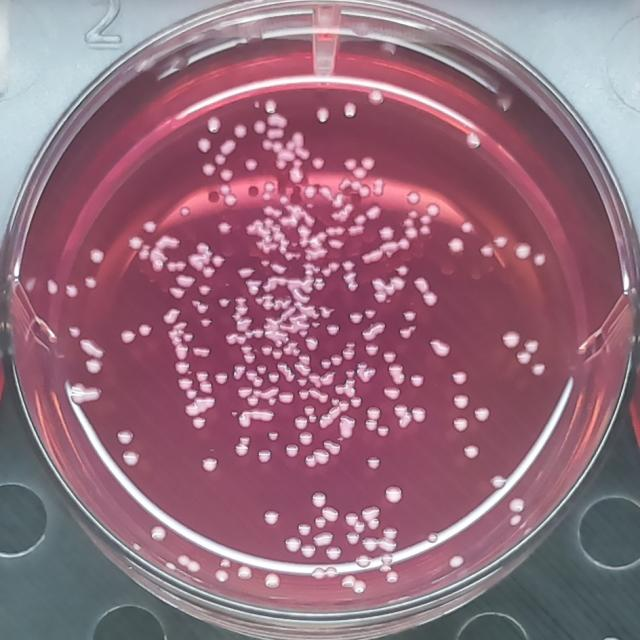StaphyloNegative: (68, 378, 104, 408), (413, 275, 441, 309), (183, 393, 217, 418), (238, 407, 276, 428), (342, 257, 361, 294), (514, 337, 541, 363), (78, 338, 107, 360), (174, 553, 202, 574), (428, 336, 452, 360), (380, 238, 412, 256), (304, 448, 330, 470), (382, 483, 405, 506), (356, 360, 378, 384), (275, 360, 297, 384), (217, 183, 238, 208), (195, 368, 213, 397), (160, 304, 182, 327), (363, 404, 381, 432), (232, 434, 252, 458), (501, 328, 522, 350), (262, 507, 283, 529), (445, 235, 466, 256), (115, 426, 136, 447), (121, 448, 142, 469), (308, 489, 329, 510), (321, 437, 343, 457), (261, 570, 283, 590), (360, 246, 383, 265), (87, 246, 107, 267), (84, 357, 105, 377), (512, 241, 534, 260), (289, 158, 305, 184), (174, 272, 198, 289), (366, 88, 386, 108), (506, 496, 526, 516), (365, 201, 384, 222), (149, 524, 168, 545), (119, 326, 138, 347), (314, 104, 332, 126), (450, 368, 470, 387), (473, 404, 492, 424), (450, 414, 470, 433), (462, 442, 482, 461), (398, 322, 418, 341), (200, 454, 219, 474), (266, 112, 288, 129), (261, 138, 284, 154), (321, 504, 340, 523), (451, 392, 471, 410), (341, 100, 359, 120), (283, 536, 303, 554), (446, 552, 466, 570), (324, 544, 344, 562), (190, 298, 210, 316), (44, 276, 61, 297), (302, 402, 318, 424), (166, 285, 188, 301), (360, 504, 382, 520), (261, 178, 275, 203), (488, 472, 507, 490), (318, 303, 337, 321), (464, 132, 482, 151), (140, 218, 159, 236), (235, 563, 254, 581), (299, 542, 318, 560), (320, 261, 340, 278), (376, 225, 396, 242), (191, 345, 213, 360), (492, 232, 510, 250), (297, 430, 315, 448), (256, 448, 274, 466), (63, 283, 81, 301), (392, 401, 410, 419), (213, 566, 231, 584), (361, 535, 379, 553), (412, 405, 429, 424), (136, 322, 155, 339), (381, 385, 402, 400), (458, 218, 475, 236), (405, 188, 422, 206), (530, 361, 548, 378), (310, 155, 328, 172), (232, 122, 249, 140), (220, 138, 237, 156), (195, 136, 212, 154), (200, 160, 217, 178), (295, 521, 313, 538), (82, 274, 99, 292), (354, 552, 372, 569), (65, 323, 83, 340), (210, 253, 228, 270), (360, 154, 377, 172), (190, 415, 209, 431), (397, 411, 413, 430), (533, 249, 548, 269), (216, 220, 233, 237), (325, 321, 342, 338), (409, 372, 426, 389), (213, 369, 230, 386), (478, 241, 494, 259), (365, 455, 383, 471), (176, 376, 194, 392), (278, 390, 296, 406), (252, 118, 268, 136), (291, 130, 307, 148), (206, 116, 222, 134), (353, 578, 369, 596), (343, 530, 361, 546), (236, 264, 255, 279), (305, 333, 320, 352), (284, 443, 301, 459), (340, 573, 357, 589), (382, 525, 399, 541), (401, 308, 419, 323), (242, 157, 260, 172), (296, 223, 314, 238), (173, 360, 191, 375), (351, 165, 369, 180), (173, 344, 191, 359), (327, 237, 346, 251), (347, 224, 366, 238), (266, 127, 286, 140), (373, 177, 386, 197), (128, 235, 144, 251), (364, 342, 380, 358), (293, 415, 309, 431), (395, 262, 411, 278), (424, 530, 440, 546), (201, 264, 217, 280), (342, 156, 358, 172), (236, 384, 253, 399), (313, 514, 328, 531), (344, 511, 359, 528), (231, 363, 246, 380), (357, 183, 372, 200), (264, 98, 278, 116), (348, 310, 363, 326), (382, 349, 398, 364), (353, 211, 368, 227), (216, 555, 232, 570), (329, 353, 344, 368), (302, 185, 317, 200), (366, 517, 381, 532), (426, 202, 440, 218), (418, 224, 434, 238), (219, 167, 235, 181), (350, 394, 364, 410), (198, 316, 214, 330), (197, 284, 213, 298), (341, 348, 357, 362), (254, 362, 270, 376), (312, 566, 326, 582), (386, 570, 400, 586), (295, 147, 312, 160), (244, 284, 261, 297), (185, 386, 199, 401), (318, 357, 332, 372), (137, 248, 151, 263), (259, 343, 274, 357), (216, 296, 232, 309), (212, 153, 228, 166), (177, 204, 191, 218), (266, 429, 280, 443), (267, 371, 281, 385), (151, 260, 165, 274), (244, 368, 258, 382), (325, 566, 339, 580), (376, 423, 389, 438), (400, 216, 415, 229), (297, 388, 310, 402), (277, 193, 290, 207), (242, 352, 256, 365), (271, 348, 284, 362), (182, 330, 195, 344), (380, 552, 395, 564), (165, 260, 178, 273), (252, 375, 265, 388), (363, 308, 377, 320), (176, 259, 188, 273), (418, 213, 433, 224), (406, 208, 419, 220), (274, 159, 287, 171), (350, 180, 363, 192), (343, 340, 358, 350)
